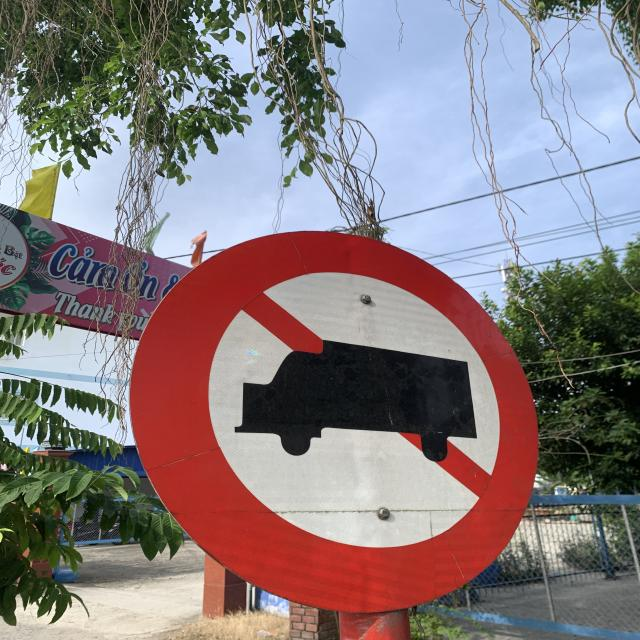Cam_Xe_Tai: (136, 229, 547, 613)
